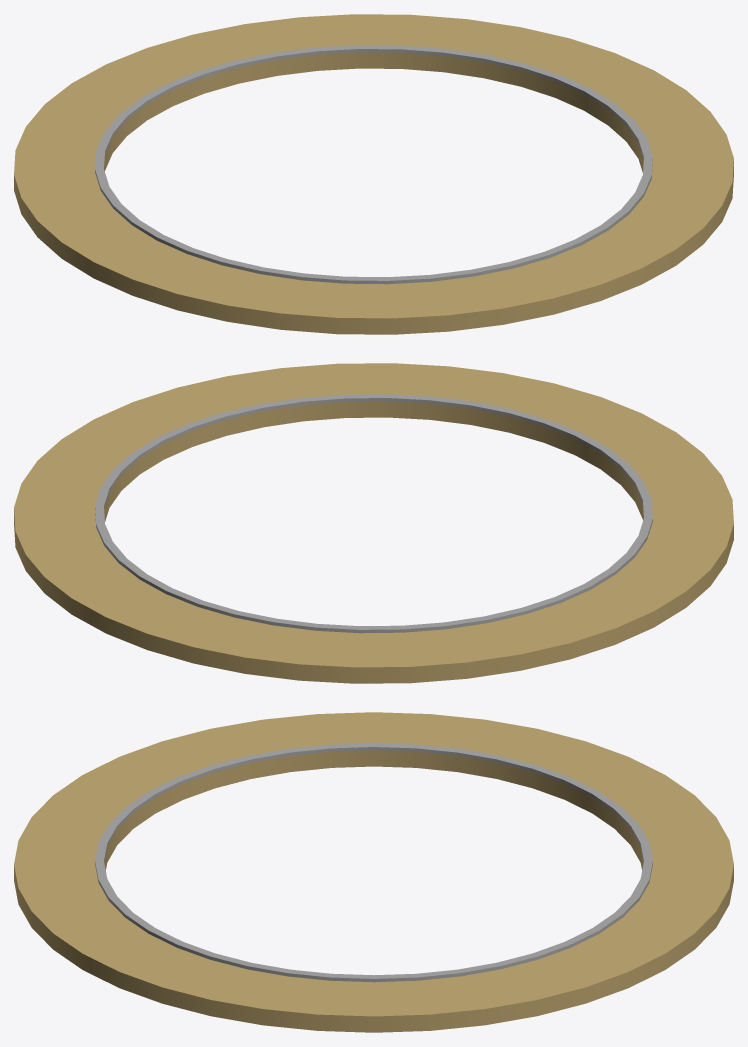
The model's file is Ring2.fbx.
3 renders of one model, top to bottom at view 1: azimuth 30°, elevation 25°; view 2: azimuth 150°, elevation 25°; view 3: azimuth 270°, elevation 25°, orthographic.
Parts seen in each view (by area): view 1: Ring2; view 2: Ring2; view 3: Ring2.
Boxes of the visible parts, <box> form: Ring2: <box>14,14,733,334</box>; Ring2: <box>14,363,733,683</box>; Ring2: <box>14,712,733,1032</box>.
Size of the model in its own units: 80 by 2.4 by 80.
